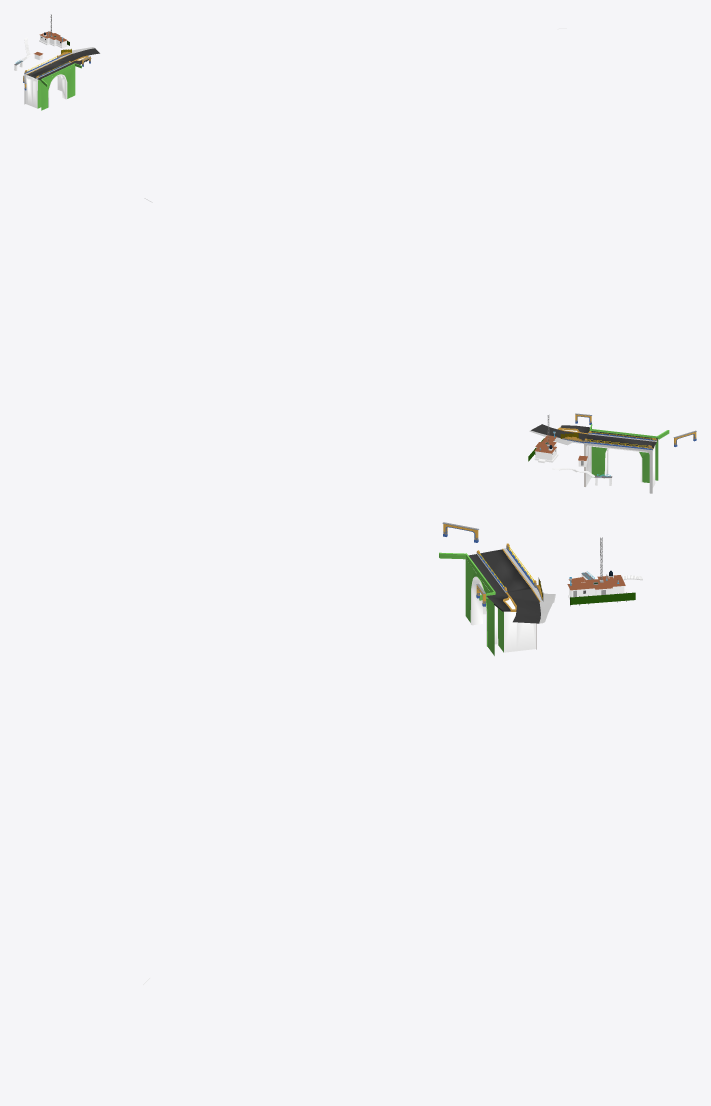
File: Msh_Sitio.glb
3 renders of one model, top to bottom at view 1: azimuth 30°, elevation 25°; view 2: azimuth 150°, elevation 25°; view 3: azimuth 270°, elevation 25°, orthographic. The views are drawn at different scales.
Visible parts, largest first — view 1: Msh_Sitio; view 2: Msh_Sitio; view 3: Msh_Sitio.
Part boxes in pixels (x1,y1,x2,y2): Msh_Sitio: (14, 14, 566, 110); Msh_Sitio: (144, 198, 696, 493); Msh_Sitio: (143, 522, 642, 984).
Bounding box in the file's own units: 357 × 35.88 × 154.
